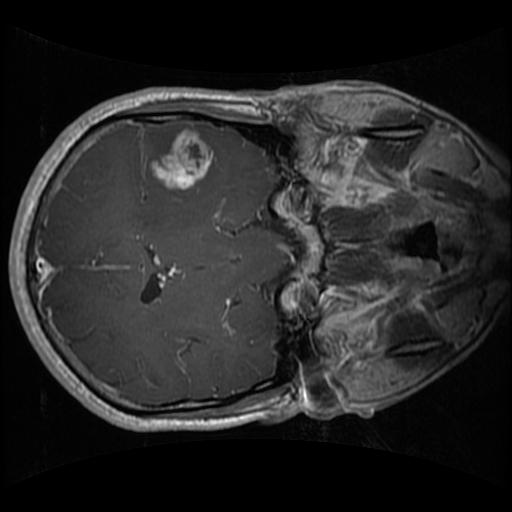glioma: (145, 125, 218, 195)
